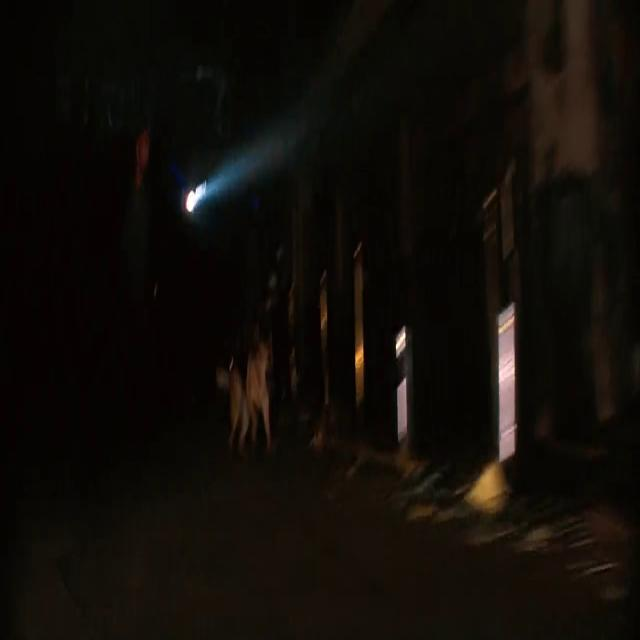dog: (208, 238, 272, 476)
